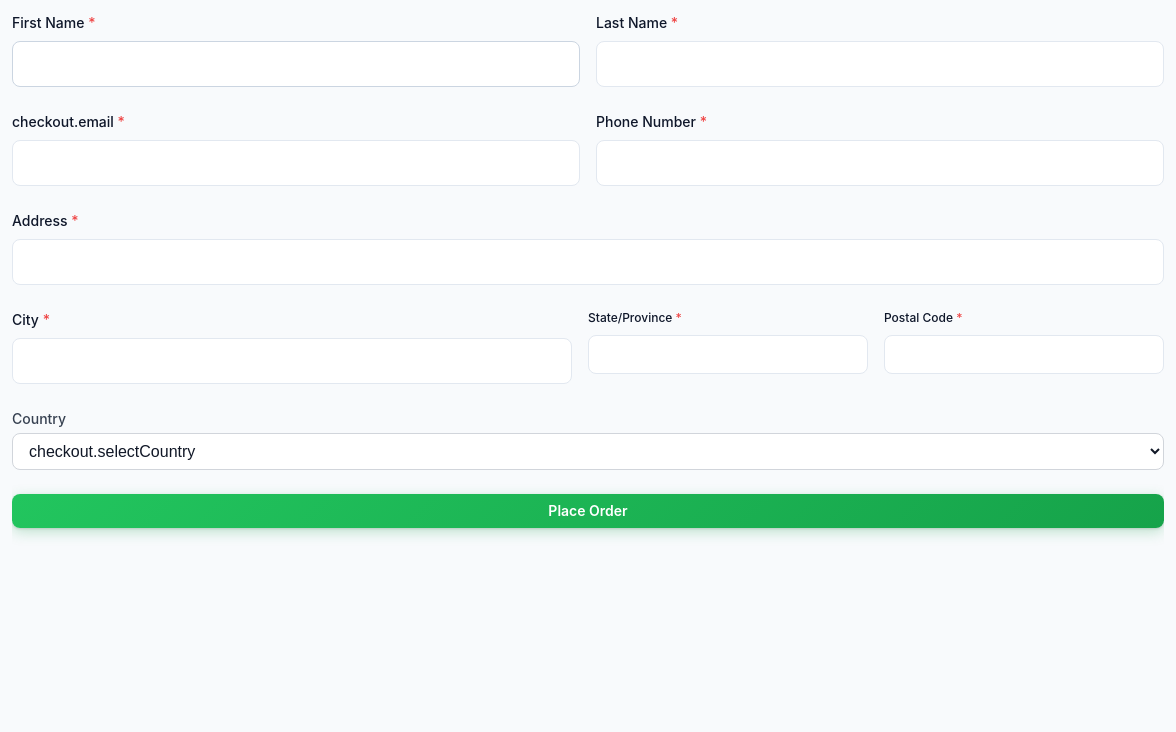
Test: CheckoutForm › shows invalid phone error for short phone number
In the field labelled "Phone Number": (880, 163) [596,140,1164,186], type "123"
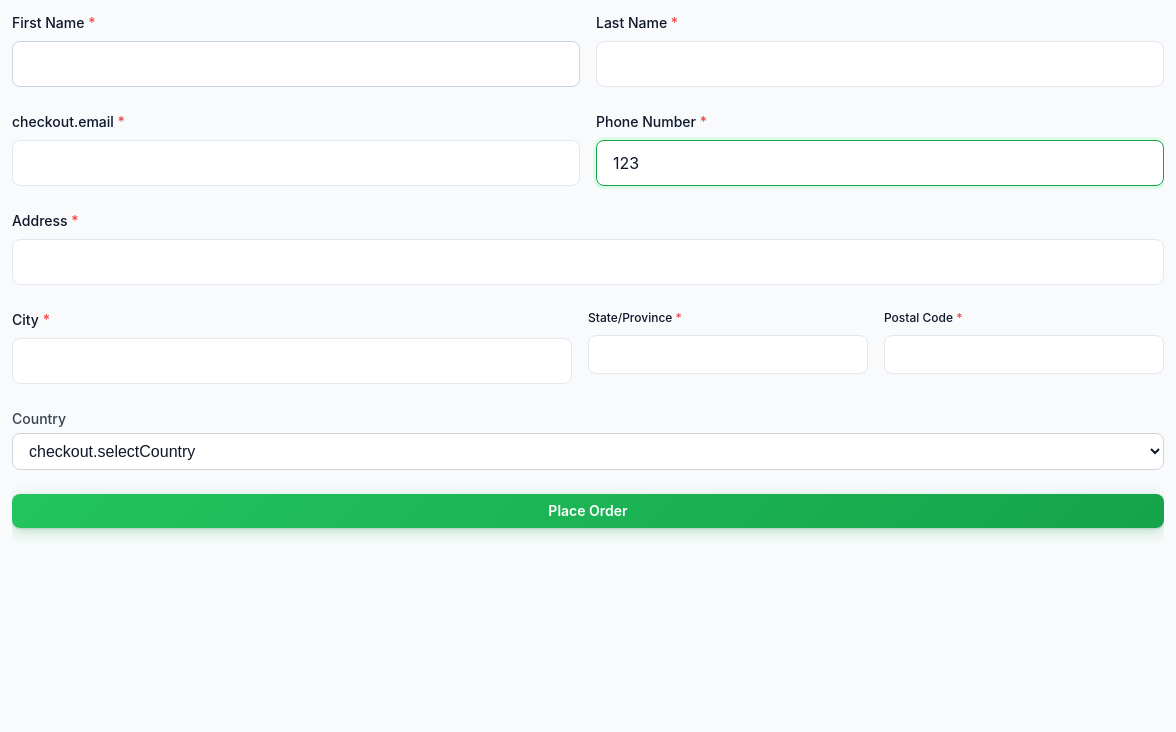
Click the button "Place Order": (588, 511) [12,494,1164,528]
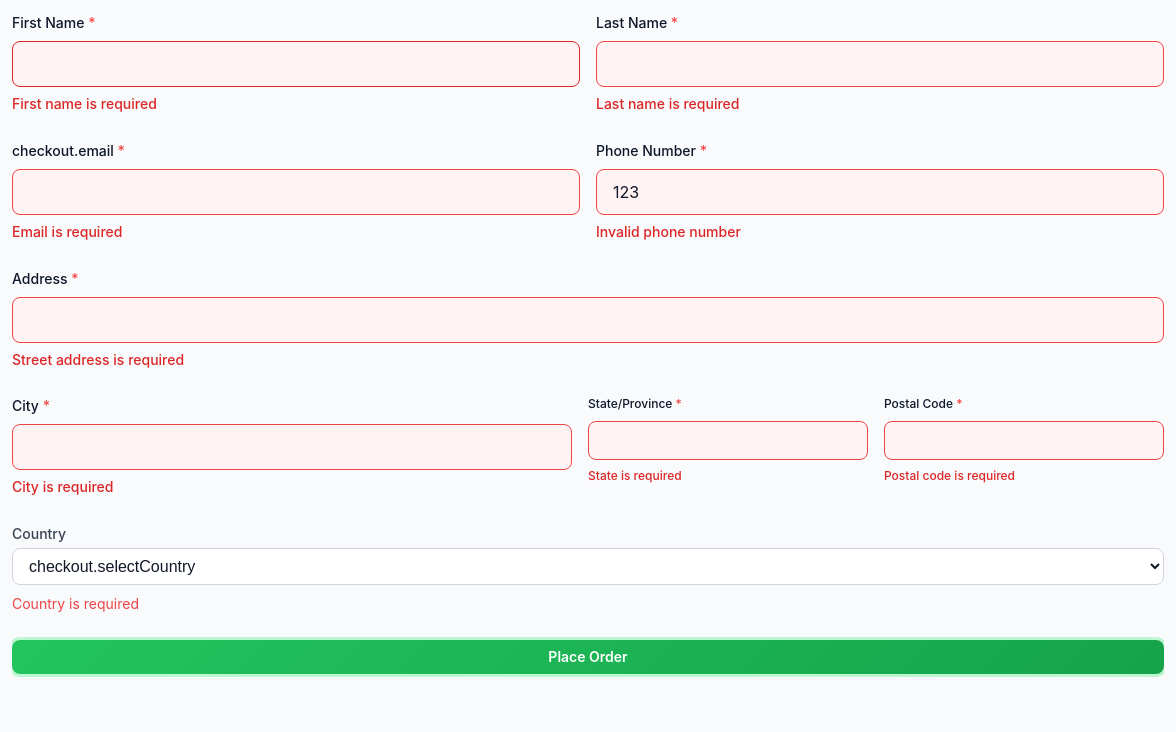
Result: the text "Invalid phone number" is shown at [596,223,741,240]
